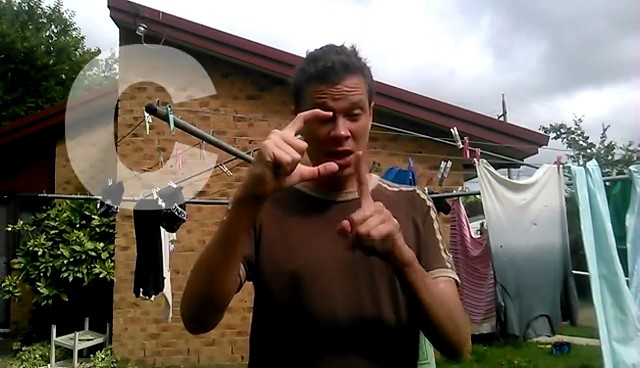C: (244, 106, 349, 190)
